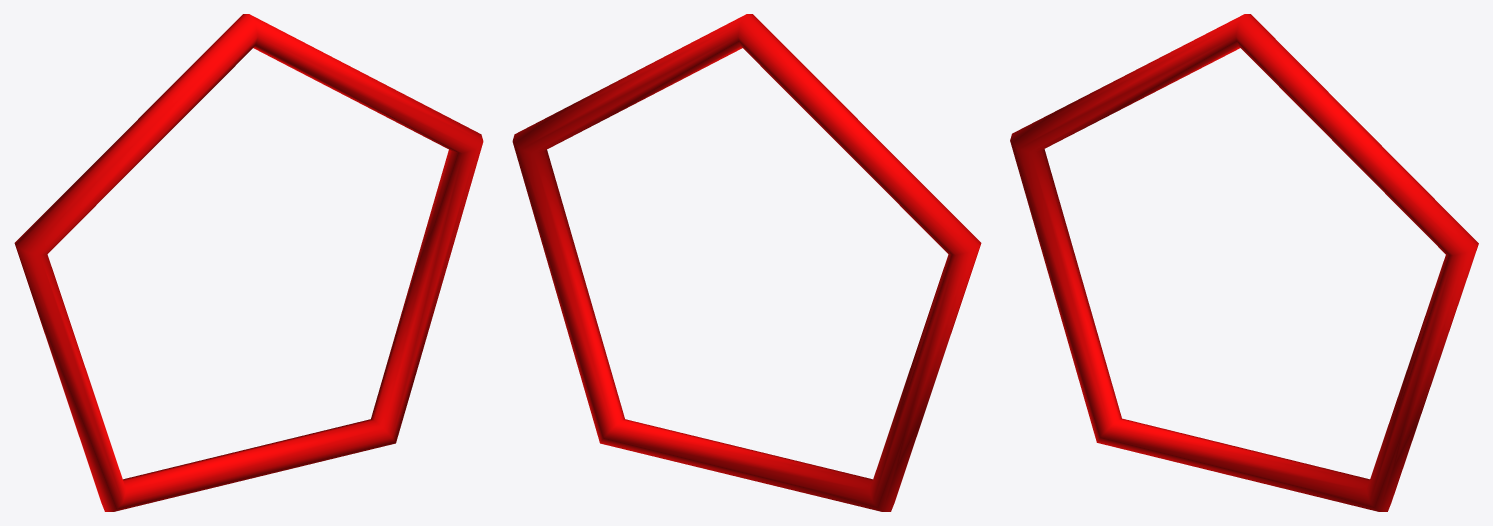
Rendered from PoliceSymbol_01.fbx.
3 views of the same model, side by side, from view 1: azimuth 30°, elevation 25°; view 2: azimuth 150°, elevation 25°; view 3: azimuth 330°, elevation 25° (orthographic).
Visible parts, largest first — view 1: PoliceStationSymbol_01; view 2: PoliceStationSymbol_01; view 3: PoliceStationSymbol_01.
Boxes of the visible parts, bbox=[...] form: PoliceStationSymbol_01: bbox=[14, 14, 483, 511]; PoliceStationSymbol_01: bbox=[512, 14, 981, 511]; PoliceStationSymbol_01: bbox=[1010, 14, 1478, 511].
Bounding box in the file's own units: 551 × 524 × 36.18.
